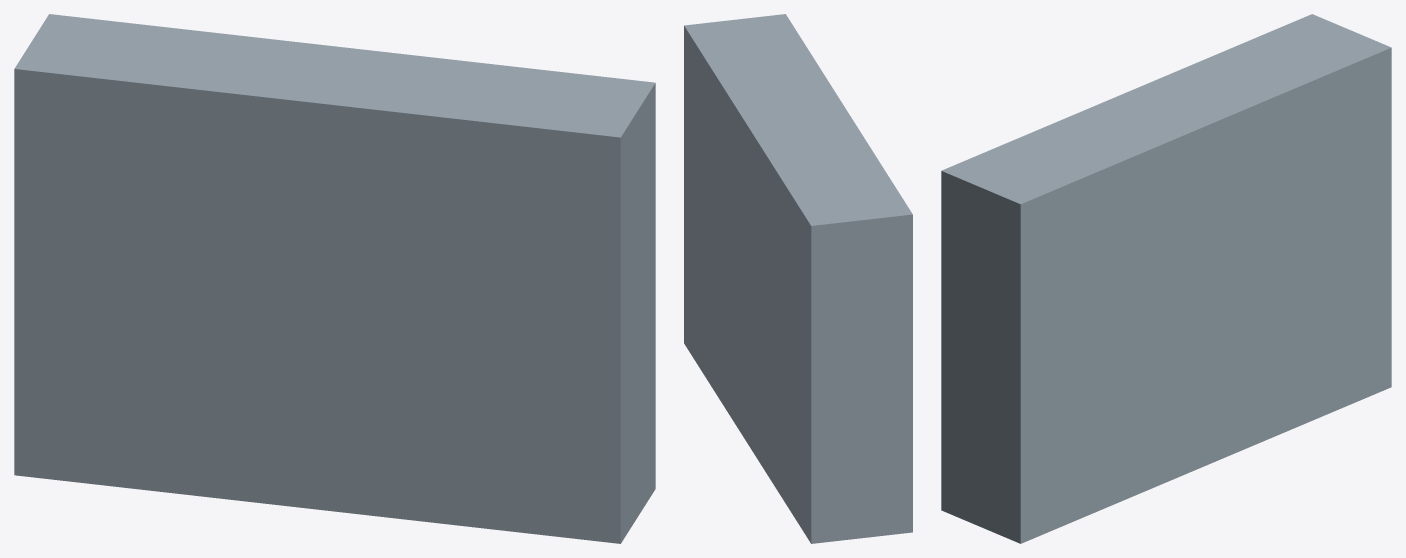
The model's file is SM_Wall_Angle_1M_low.fbx.
3 renders of one model, left to right at view 1: azimuth 30°, elevation 25°; view 2: azimuth 150°, elevation 25°; view 3: azimuth 270°, elevation 25°, orthographic. The views are drawn at different scales.
Parts seen in each view (by area): view 1: SM_Wall_Angle_1M_low; view 2: SM_Wall_Angle_1M_low; view 3: SM_Wall_Angle_1M_low.
Boxes of the visible parts, x1,y1,x2,y2 form: SM_Wall_Angle_1M_low: (14, 14, 655, 543); SM_Wall_Angle_1M_low: (684, 14, 912, 543); SM_Wall_Angle_1M_low: (941, 14, 1391, 543).
Size of the model in its own units: 120 by 100 by 120.
